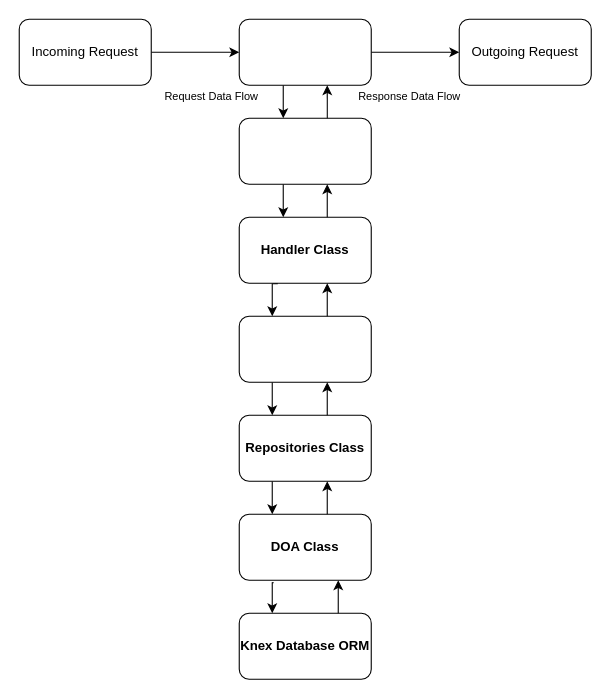
This 611x699 diagram has some shape labels left out. Here are the shapes that lost their labels. From the top down, the centre of each, then its label:
At pixel 304 51: "CHATAPP API".
At pixel 304 150: "Koa Router Handler".
At pixel 304 348: "Services Class".
